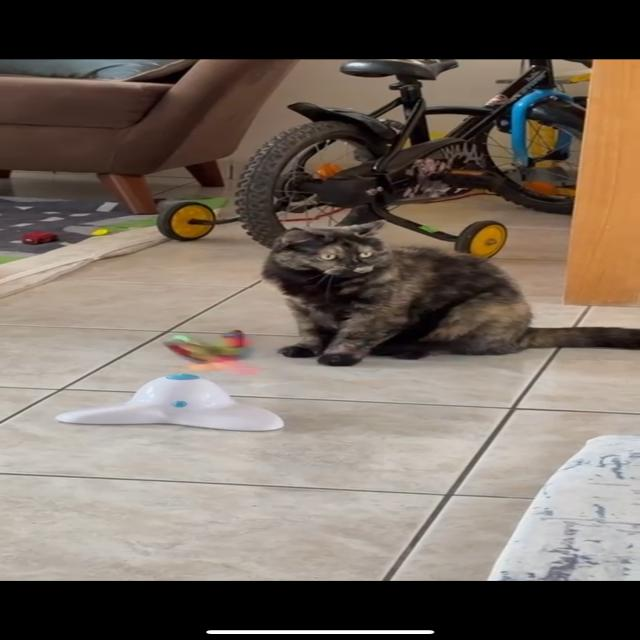authorized: (259, 219, 639, 367)
